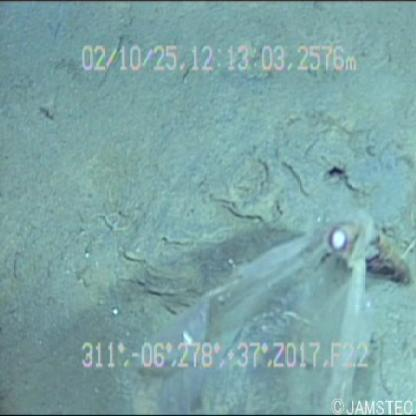Rác: (119, 189, 378, 416)
